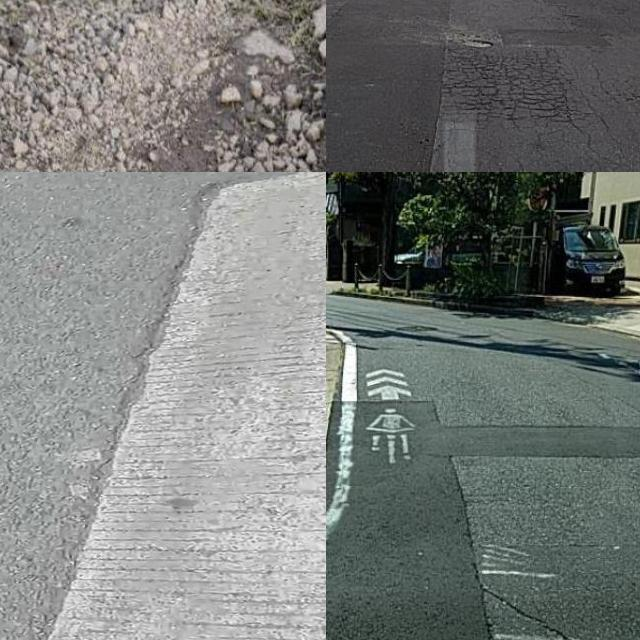Pinggir: (101, 0, 326, 172)
Retak Buaya: (440, 49, 577, 125)
Sambungan: (54, 172, 326, 640), (326, 399, 498, 640), (326, 0, 453, 172), (438, 424, 640, 462)
